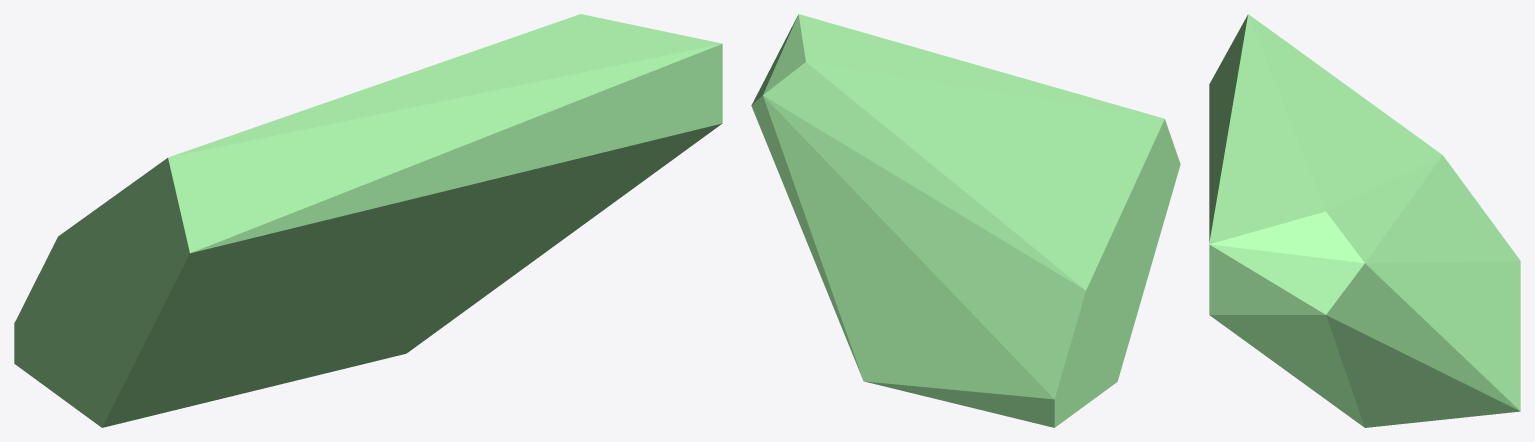
File: rambler_robot_base_coll_34.dae
3 views of the same model, side by side, from view 1: azimuth 30°, elevation 25°; view 2: azimuth 150°, elevation 25°; view 3: azimuth 270°, elevation 25° (orthographic). The views are drawn at different scales.
Parts seen in each view (by area): view 1: Node_0x7fe100285c80; view 2: Node_0x7fe100285c80; view 3: Node_0x7fe100285c80.
Part boxes in pixels (box(x1,y1,x2,y2)): Node_0x7fe100285c80: box(14, 14, 722, 427); Node_0x7fe100285c80: box(751, 14, 1180, 427); Node_0x7fe100285c80: box(1209, 14, 1520, 427).
Bounding box in the file's own units: 0.1916 × 0.1095 × 0.1095.
